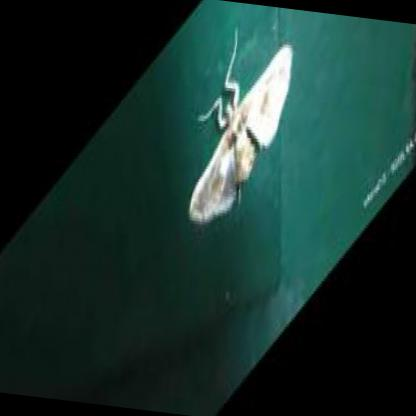leucinodes: (189, 41, 294, 223)
